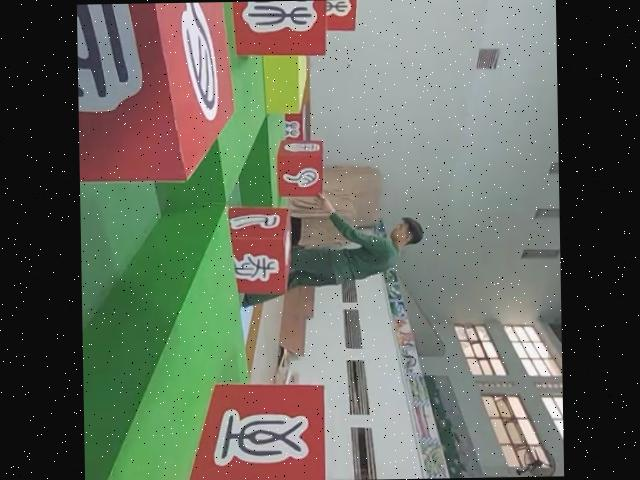R2 Fake: (76, 2, 239, 188), (180, 380, 328, 480), (215, 205, 295, 297), (224, 0, 332, 60), (271, 138, 327, 199), (311, 0, 361, 35)
